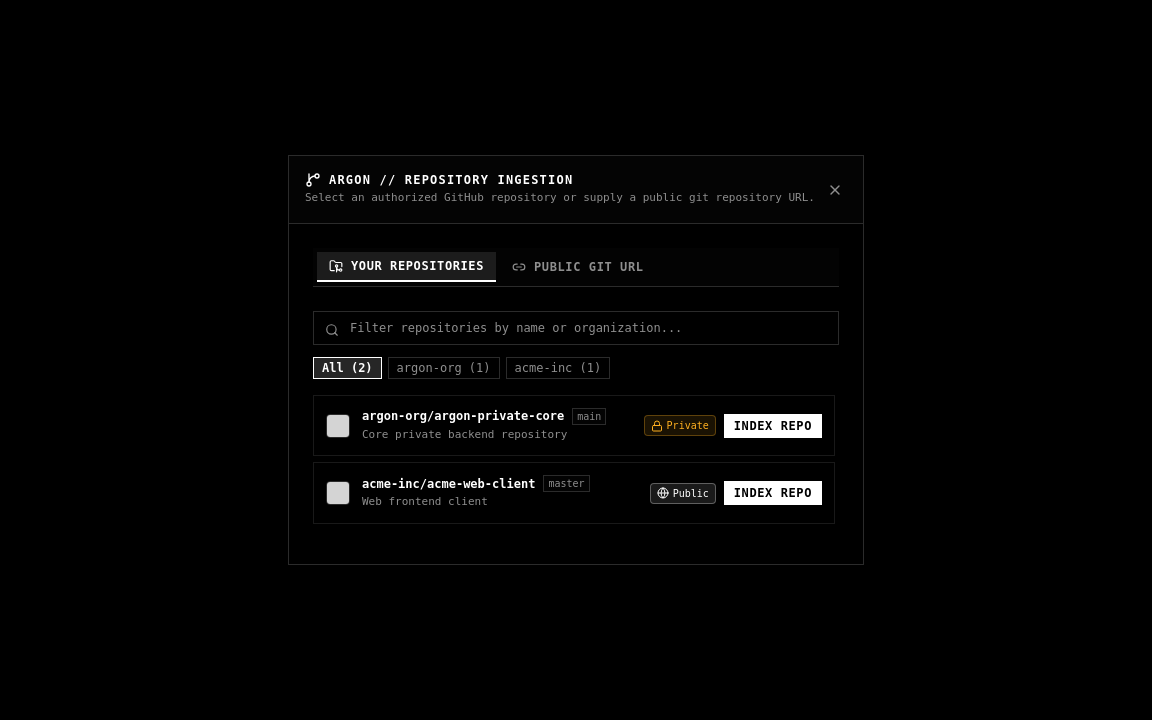
Test: IngestModal & RepoPicker Integration (Task 07-03-01, ING-04) › renders repository list with metadata and filters by search query and org pill
The width and height of the screenshot is (1152, 720).
Expected: the text "argon-org/argon-private-core" is shown, x1=362 y1=408 x2=564 y2=424
Expected: the text "acme-inc/acme-web-client" is shown, x1=362 y1=476 x2=535 y2=492
Note: Search for "argon"
Type "argon" into the field with test id "repo-search-input" at (576, 328), box x1=313 y1=311 x2=839 y2=345
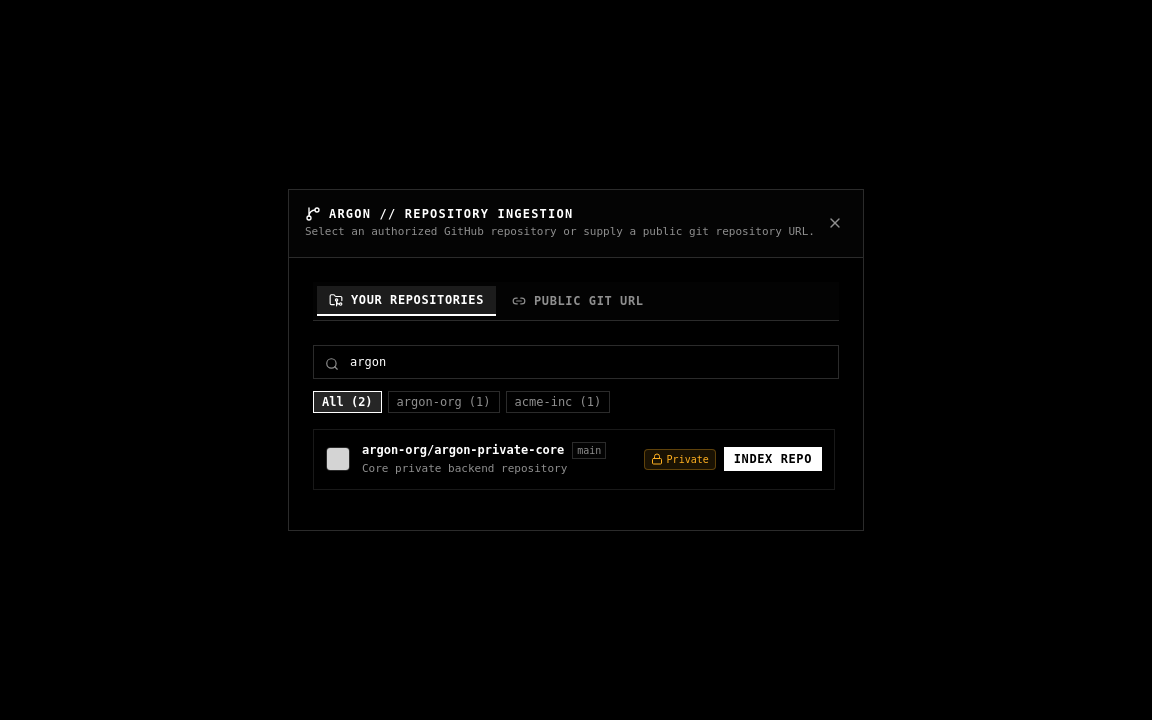
Expected: the text "argon-org/argon-private-core" is shown, x1=362 y1=442 x2=564 y2=458
Now the text "acme-inc/acme-web-client" is gone
Note: Clear search
Clear the field with test id "repo-search-input" at (576, 362), box x1=313 y1=344 x2=839 y2=378
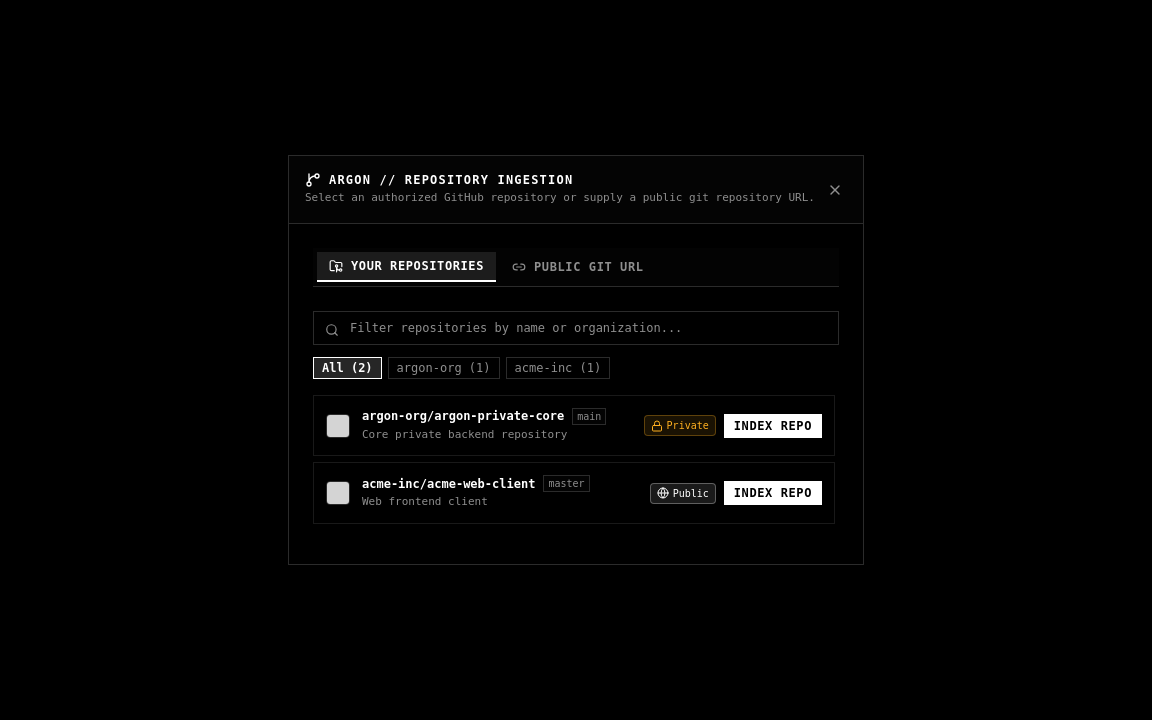
Now the text "acme-inc/acme-web-client" is shown, box x1=362 y1=476 x2=535 y2=492
Note: Click org filter pill "acme-inc"
Click the button "acme-inc (1)" at (558, 368), box x1=506 y1=357 x2=610 y2=379
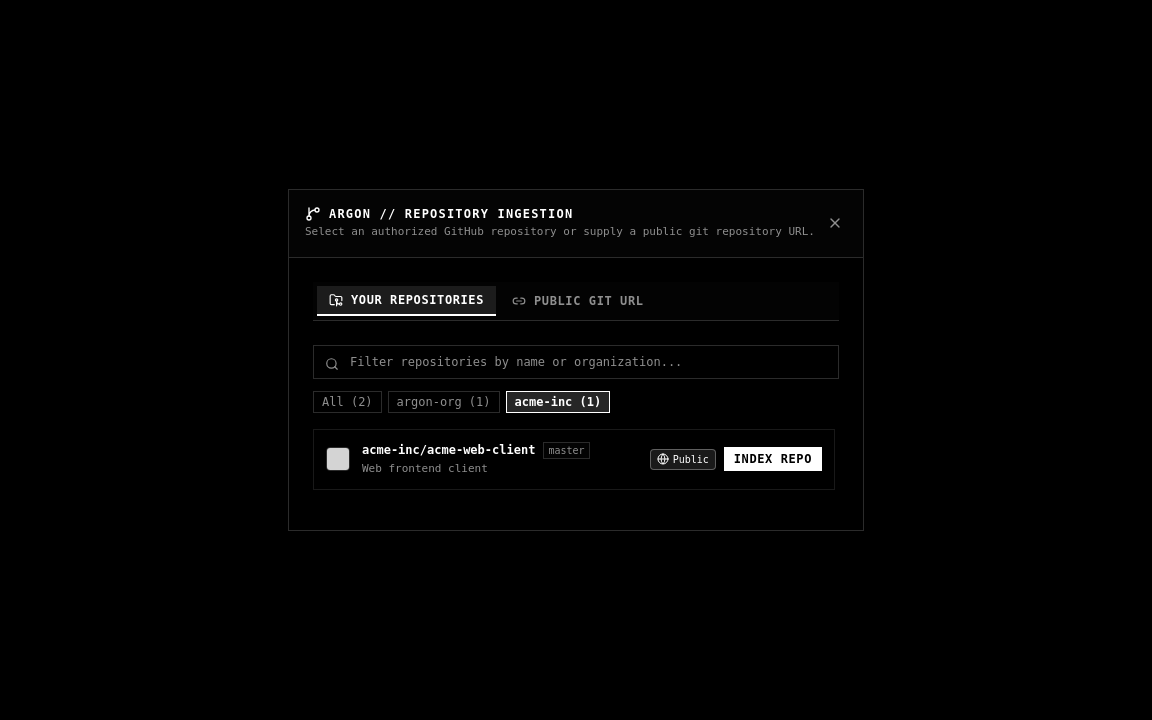
Now the text "acme-inc/acme-web-client" is shown, box x1=362 y1=442 x2=535 y2=458
Now the text "argon-org/argon-private-core" is gone
